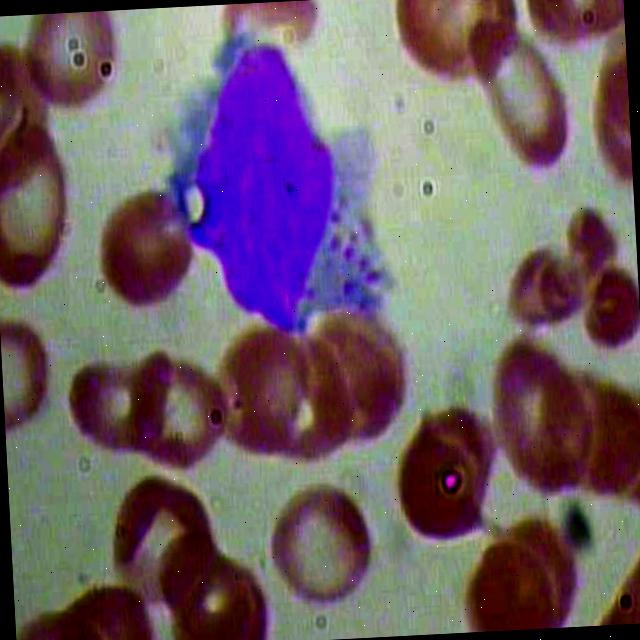RBC: (388, 384, 512, 558), (461, 18, 584, 190), (104, 463, 228, 624), (482, 340, 582, 505), (266, 484, 382, 612), (87, 190, 203, 317), (0, 119, 79, 294), (17, 10, 132, 121), (128, 351, 230, 472), (66, 356, 170, 466), (388, 0, 503, 91)
WBC: (146, 26, 406, 343)
